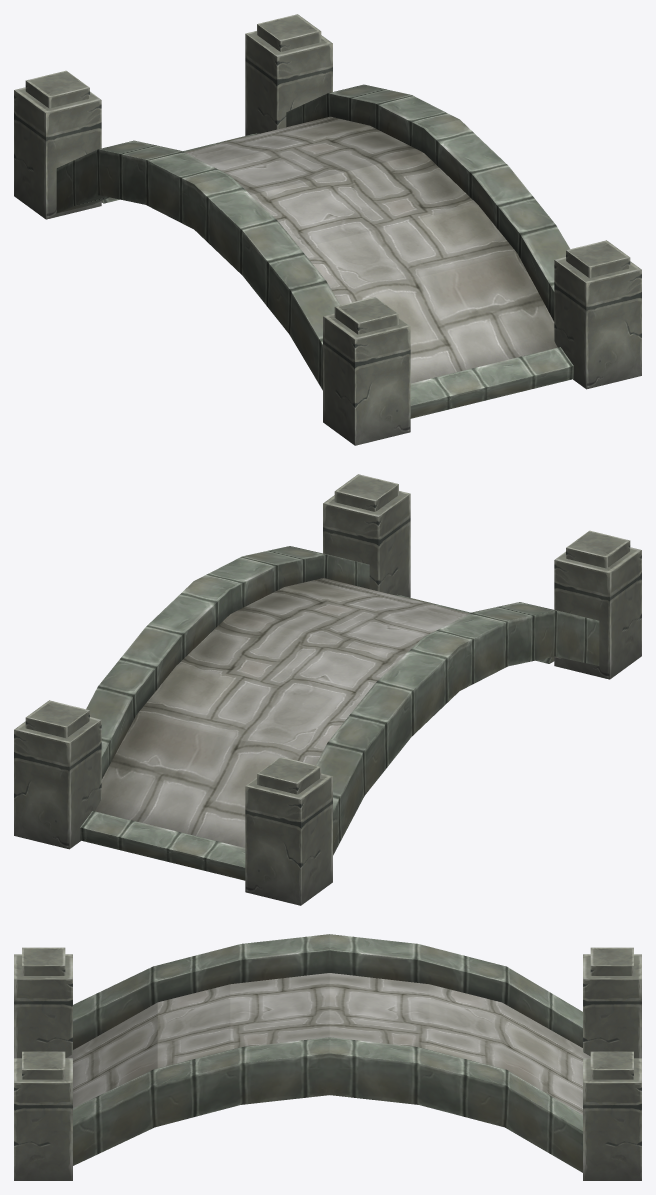
File: bridge_04a.fbx
3 renders of one model, top to bottom at view 1: azimuth 30°, elevation 25°; view 2: azimuth 150°, elevation 25°; view 3: azimuth 270°, elevation 25°, orthographic. The views are drawn at different scales.
Parts seen in each view (by area): view 1: bridge_04aMesh; view 2: bridge_04aMesh; view 3: bridge_04aMesh.
Boxes of the visible parts, x1=… form: bridge_04aMesh: x1=14, y1=14, x2=641, y2=445; bridge_04aMesh: x1=14, y1=474, x2=641, y2=905; bridge_04aMesh: x1=14, y1=934, x2=641, y2=1180.
Bounding box in the file's own units: 3.04 × 1.35 × 6.27.
